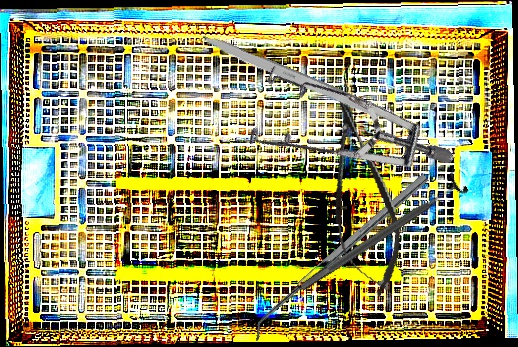Fixation Ring: (293, 166, 471, 301)
Micro Scissor: (310, 87, 412, 302)
Scalpel Handle: (198, 31, 412, 134)
Spatula Surgical: (245, 173, 435, 342)
Speculum: (222, 17, 456, 254)
